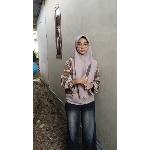Pisau: (80, 62, 94, 82)
